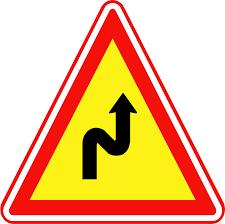double_bend_right: (4, 1, 224, 220)
